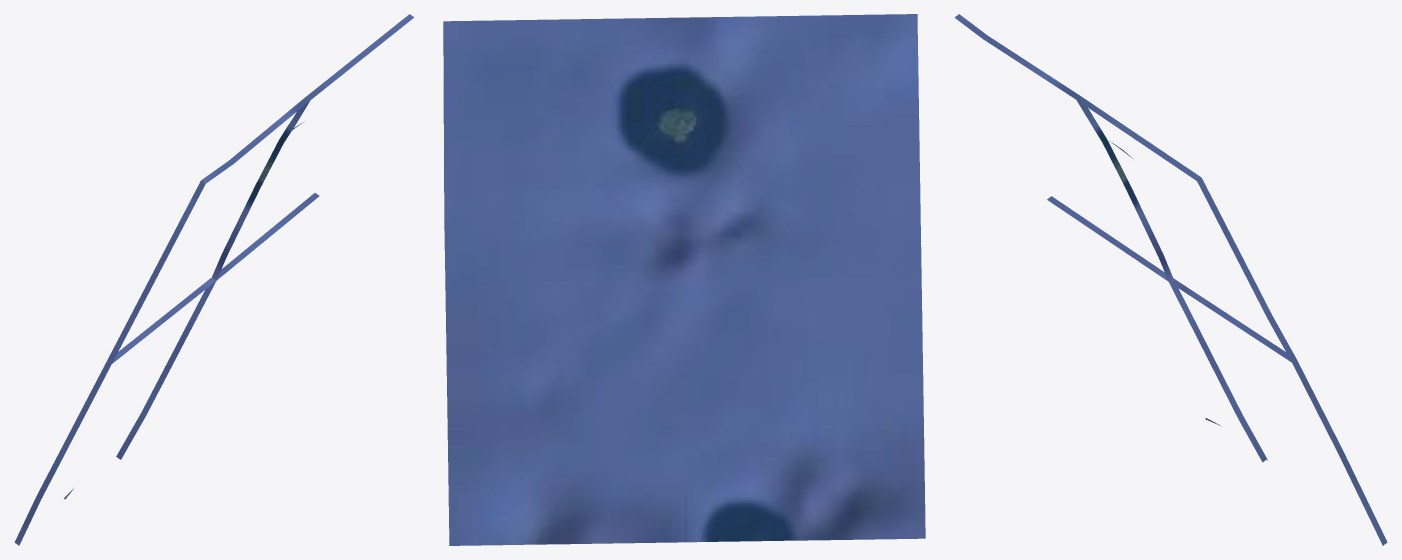
3 renders of one model, left to right at view 1: azimuth 30°, elevation 25°; view 2: azimuth 150°, elevation 25°; view 3: azimuth 270°, elevation 25°, orthographic. The views are drawn at different scales.
Bounding box in the file's own units: 19587 × 17856 × 16808.
Materials: 1 (1 with a texture image).
